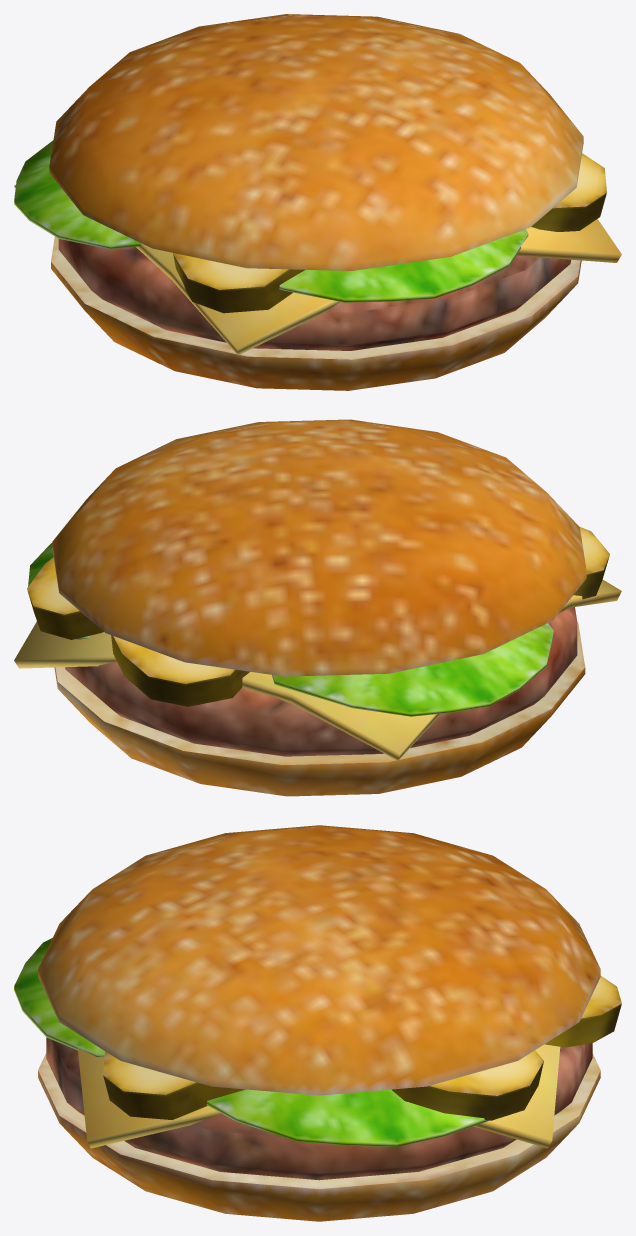
Rendered from burger_1.fbx.
3 views of the same model, one above another, from view 1: azimuth 30°, elevation 25°; view 2: azimuth 150°, elevation 25°; view 3: azimuth 270°, elevation 25° (orthographic). The views are drawn at different scales.
Parts seen in each view (by area): view 1: burger_1; view 2: burger_1; view 3: burger_1.
Boxes of the visible parts, x1=… form: burger_1: x1=14, y1=14, x2=621, y2=390; burger_1: x1=14, y1=419, x2=621, y2=796; burger_1: x1=14, y1=825, x2=621, y2=1221.
Bounding box in the file's own units: 12.83 × 6.6 × 12.94.
